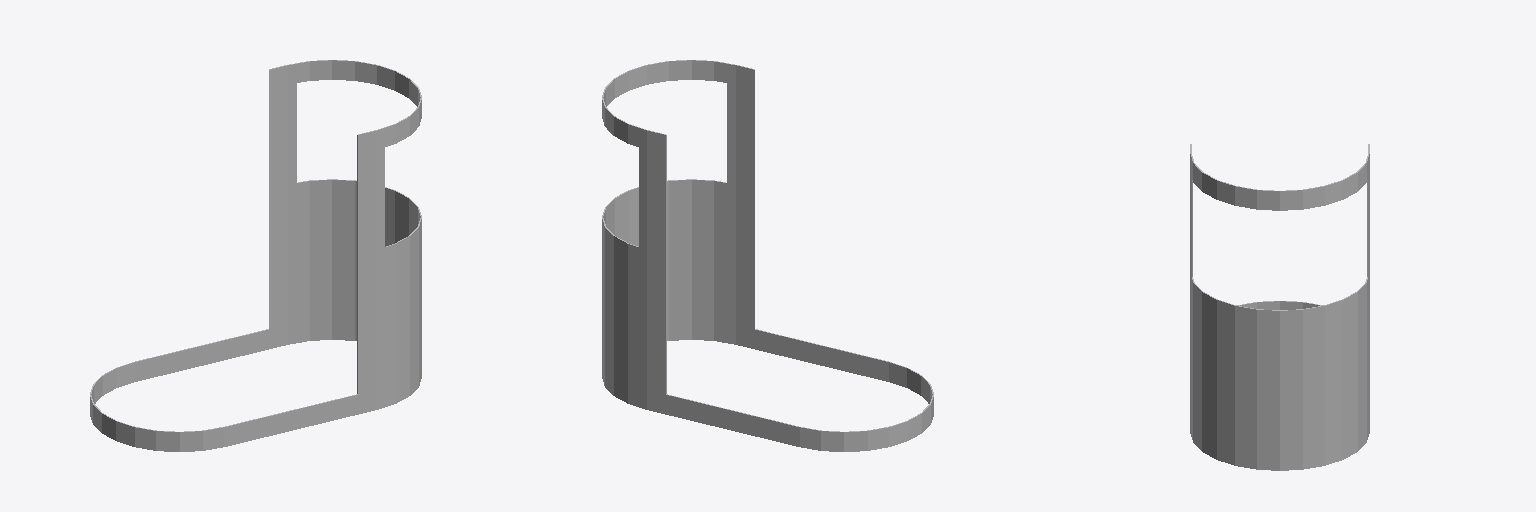
The model's file is table1.obj.
The picture shows the model from 3 angles: view 1: azimuth 30°, elevation 25°; view 2: azimuth 150°, elevation 25°; view 3: azimuth 270°, elevation 25°; orthographic projection.
Parts seen in each view (by area): view 1: Mesh1 Group1 Model; view 2: Mesh1 Group1 Model; view 3: Mesh1 Group1 Model.
Boxes of the visible parts, box(x1,y1,x2,y2) form: Mesh1 Group1 Model: box(90, 60, 421, 451); Mesh1 Group1 Model: box(602, 60, 933, 451); Mesh1 Group1 Model: box(1190, 144, 1369, 470).
Bounding box in the file's own units: 16.13 × 13.97 × 8.12.